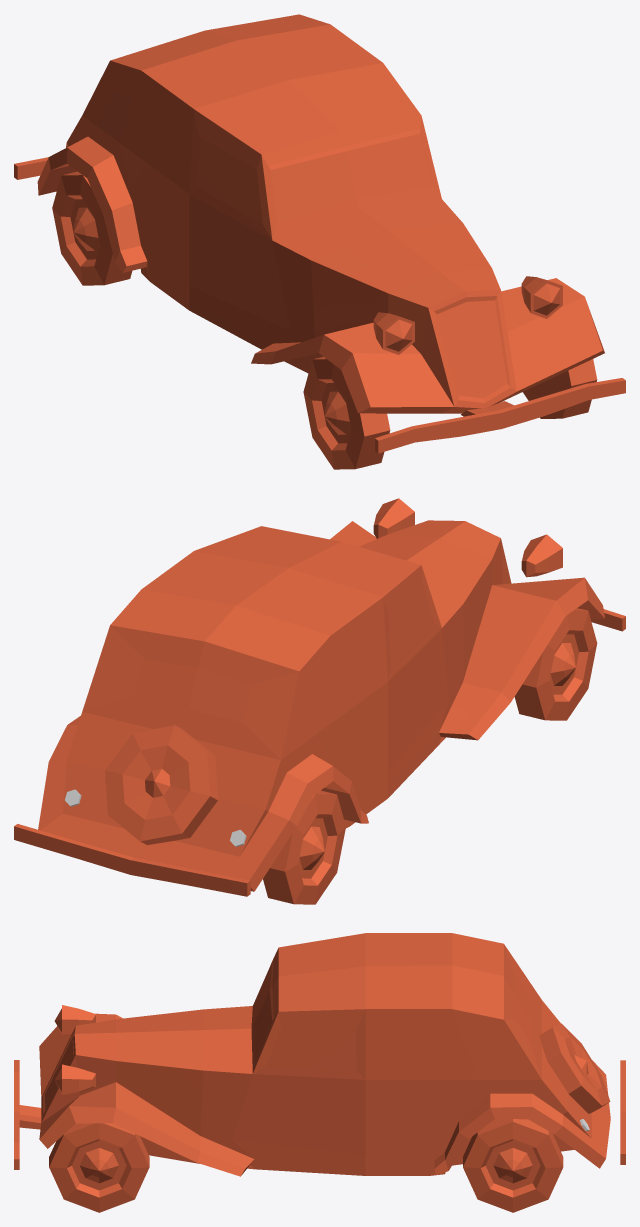
The model's file is car-civil-french.fbx.
3 renders of one model, top to bottom at view 1: azimuth 30°, elevation 25°; view 2: azimuth 150°, elevation 25°; view 3: azimuth 270°, elevation 25°, orthographic. The views are drawn at different scales.
Visible parts, largest first — view 1: car-civil-french, Wheel Front Right, Wheel Back Right, Wheel Front Left, FrontLight; view 2: car-civil-french, Wheel Back Right, Wheel Front Right; view 3: car-civil-french, Wheel Back Left, Wheel Front Left.
Part boxes in pixels (left/top/right/bottom): car-civil-french: left=14, top=14, right=625, bottom=453; Wheel Front Right: left=303, top=356, right=390, bottom=469; Wheel Back Right: left=52, top=171, right=132, bottom=285; Wheel Front Left: left=523, top=359, right=597, bottom=418; FrontLight: left=385, top=283, right=560, bottom=351; car-civil-french: left=14, top=498, right=625, bottom=896; Wheel Back Right: left=263, top=790, right=345, bottom=904; Wheel Front Right: left=514, top=608, right=597, bottom=720; car-civil-french: left=14, top=933, right=625, bottom=1176; Wheel Back Left: left=463, top=1119, right=563, bottom=1212; Wheel Front Left: left=49, top=1123, right=149, bottom=1212.
Size of the model in its own units: 1.72 by 1.59 by 4.4.
